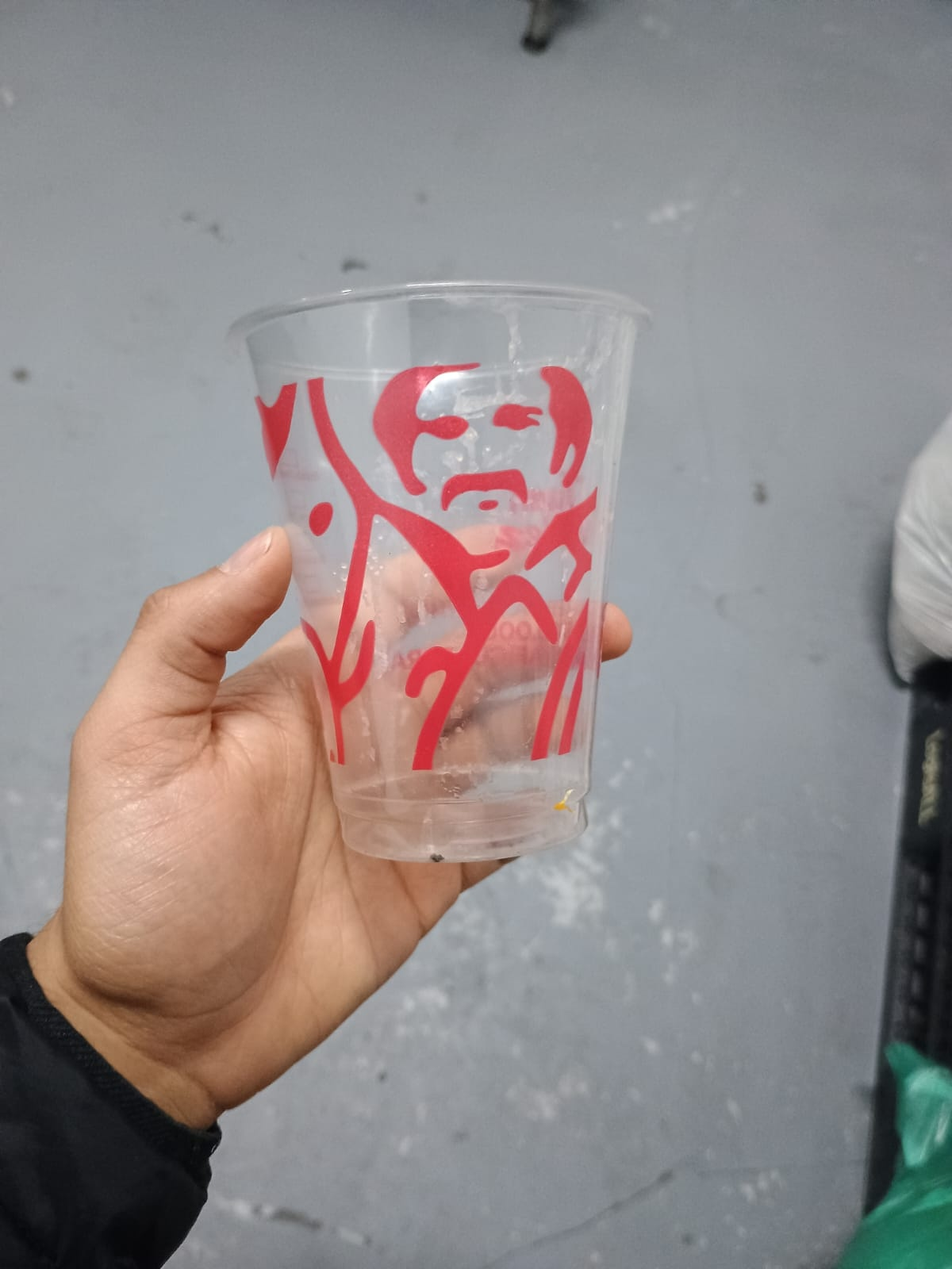Plastico: (228, 281, 655, 862)
